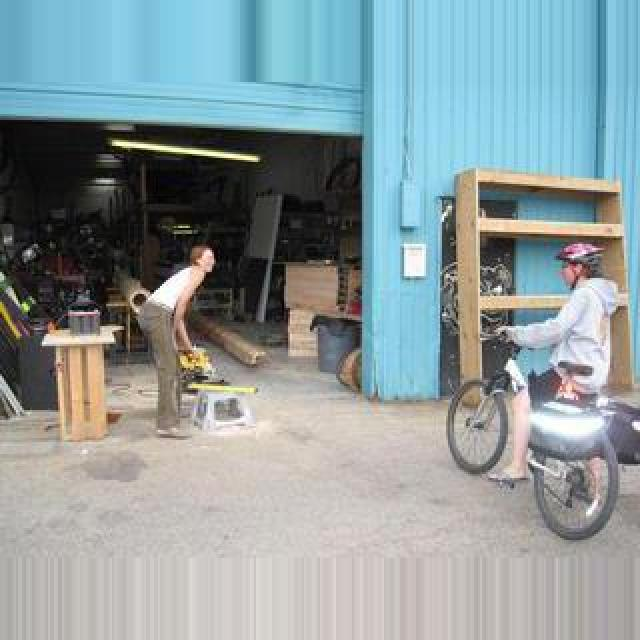Emergency Vehicles-Bike: (446, 322, 634, 540)
MC-Bike: (128, 244, 242, 438), (504, 242, 620, 420)
Person: (447, 315, 631, 547)
